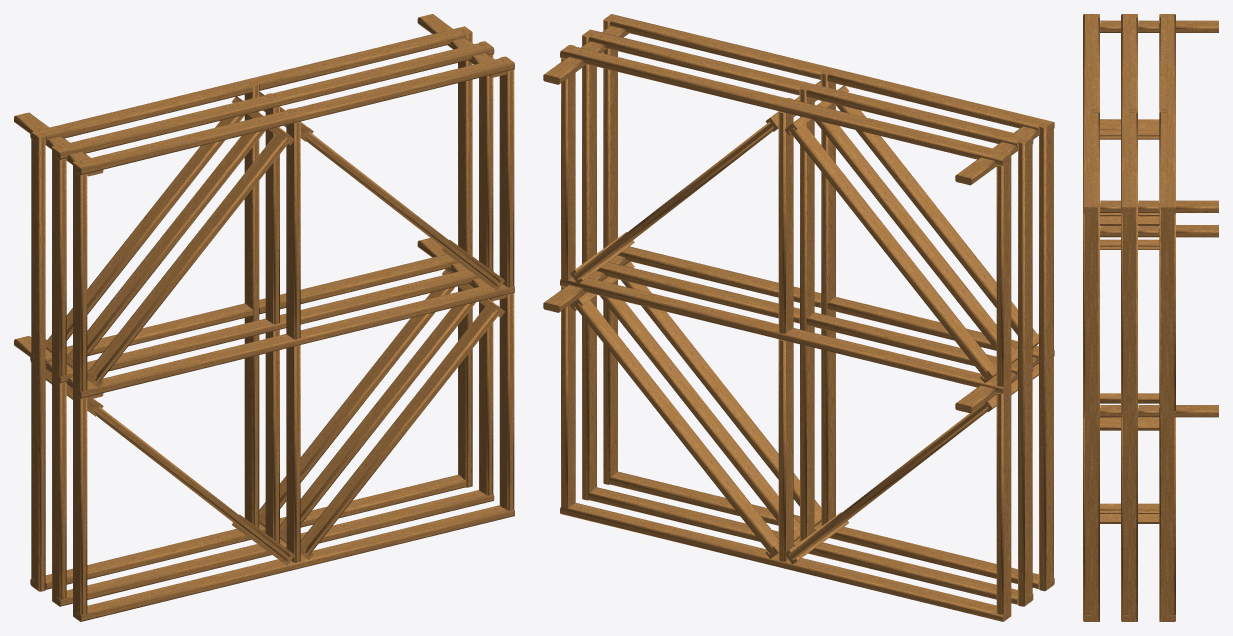
File: VCKA0050_VCKC0060_VCKC0060.glb
3 renders of one model, left to right at view 1: azimuth 30°, elevation 25°; view 2: azimuth 150°, elevation 25°; view 3: azimuth 270°, elevation 25°, orthographic. The views are drawn at different scales.
Visible parts, largest first — view 1: V Bar BIN 32 32.017, V Bar BIN 32 32.009; view 2: V Bar BIN 32 32.017, V Bar BIN 32 32.009; view 3: V Bar BIN 32 32.017, V Bar BIN 32 32.009.
Boxes of the visible parts, bbox=[...] form: V Bar BIN 32 32.017: bbox=[14, 14, 514, 621]; V Bar BIN 32 32.009: bbox=[45, 91, 504, 565]; V Bar BIN 32 32.017: bbox=[543, 14, 1054, 621]; V Bar BIN 32 32.009: bbox=[570, 80, 1038, 563]; V Bar BIN 32 32.017: bbox=[1083, 14, 1218, 621]; V Bar BIN 32 32.009: bbox=[1100, 119, 1159, 523].
Size of the model in its own units: 0.812 by 0.812 by 0.241.
Materials: 2 (2 with a texture image).
